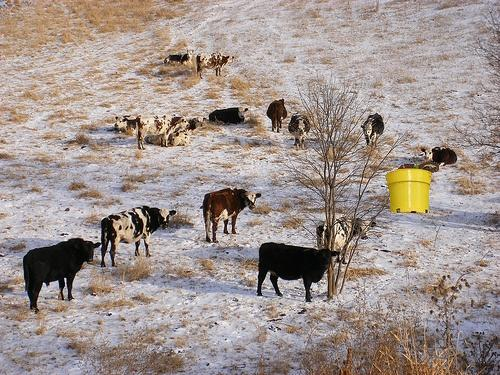tampered: (386, 160, 439, 213)
